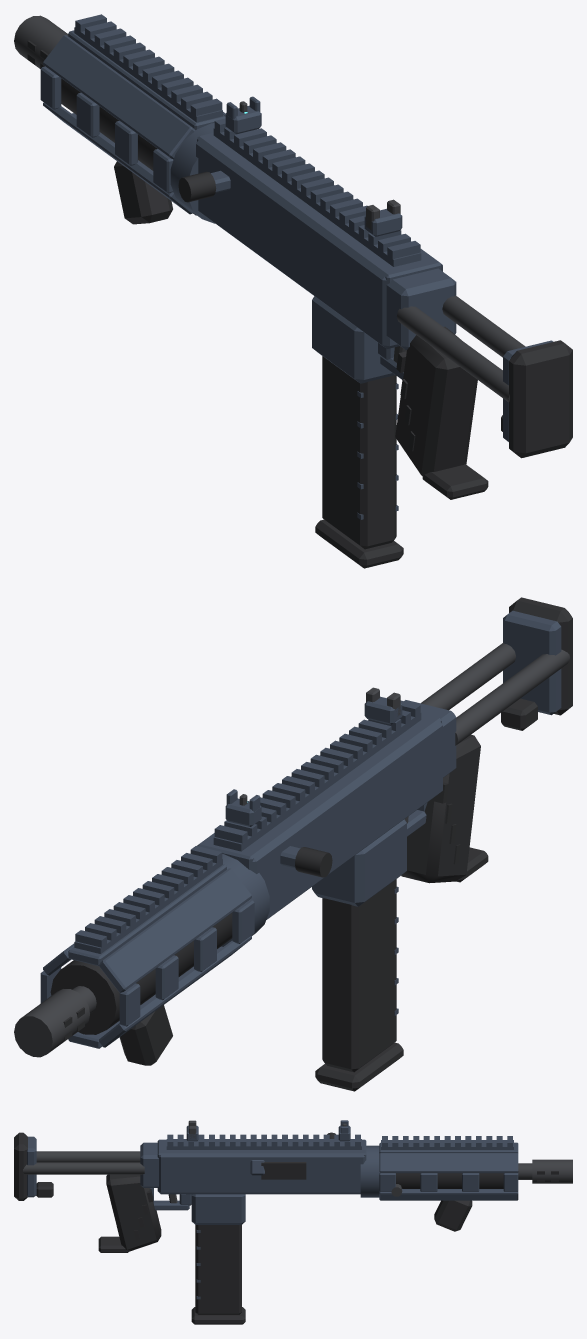
Rendered from smg.glb.
The picture shows the model from 3 angles, top to bottom: view 1: azimuth 30°, elevation 25°; view 2: azimuth 150°, elevation 25°; view 3: azimuth 270°, elevation 25°; orthographic projection. The views are drawn at different scales.
Parts seen in each view (by area): view 1: SMG_Navy, SMG_Polymer, SMG_Steel; view 2: SMG_Navy, SMG_Polymer, SMG_Steel; view 3: SMG_Navy, SMG_Polymer, SMG_Steel.
Part boxes in pixels (bbox=[...]): SMG_Navy: bbox=[40, 14, 553, 519]; SMG_Polymer: bbox=[27, 40, 572, 568]; SMG_Steel: bbox=[14, 15, 525, 402]; SMG_Navy: bbox=[40, 610, 561, 1048]; SMG_Polymer: bbox=[50, 597, 572, 1091]; SMG_Steel: bbox=[14, 642, 569, 1057]; SMG_Navy: bbox=[27, 1120, 518, 1299]; SMG_Polymer: bbox=[14, 1132, 558, 1324]; SMG_Steel: bbox=[23, 1120, 572, 1203].
Size of the model in its own units: 0.083 by 0.2495 by 0.6433.
